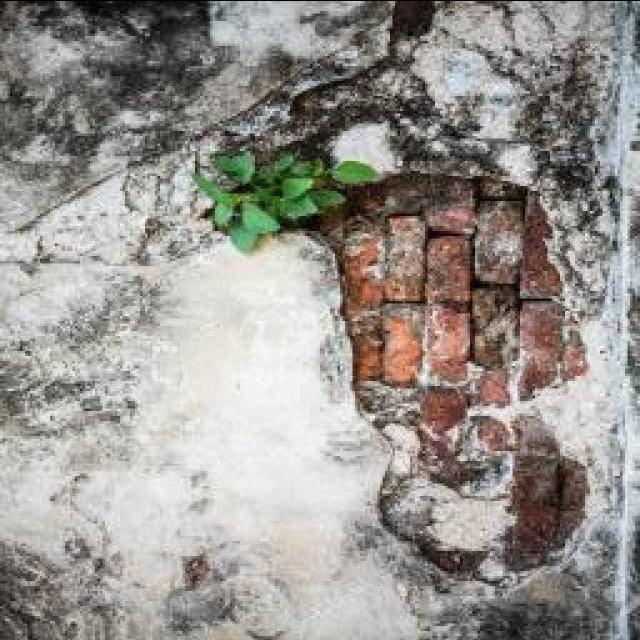crack: (2, 1, 637, 637), (381, 0, 623, 169), (2, 5, 163, 159), (206, 1, 386, 74), (341, 224, 390, 307), (128, 211, 172, 266), (422, 226, 473, 242), (473, 277, 517, 292), (466, 224, 482, 264), (381, 300, 425, 312), (518, 295, 556, 305)
dampens: (0, 488, 293, 640), (437, 139, 515, 181)
dampness: (232, 99, 586, 609)
vegetation: (1, 252, 167, 432), (191, 144, 380, 253), (132, 133, 274, 263), (80, 0, 226, 97), (278, 72, 425, 153), (552, 192, 624, 300), (487, 2, 581, 70), (217, 150, 256, 185)
